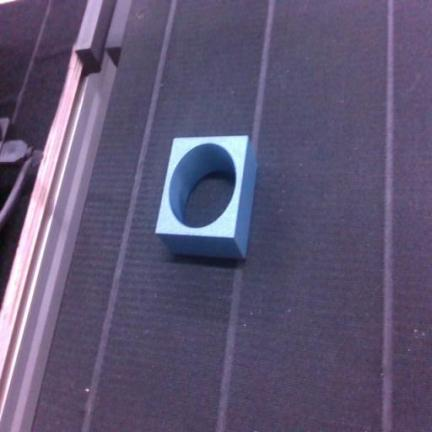hole: (157, 136, 256, 258)
